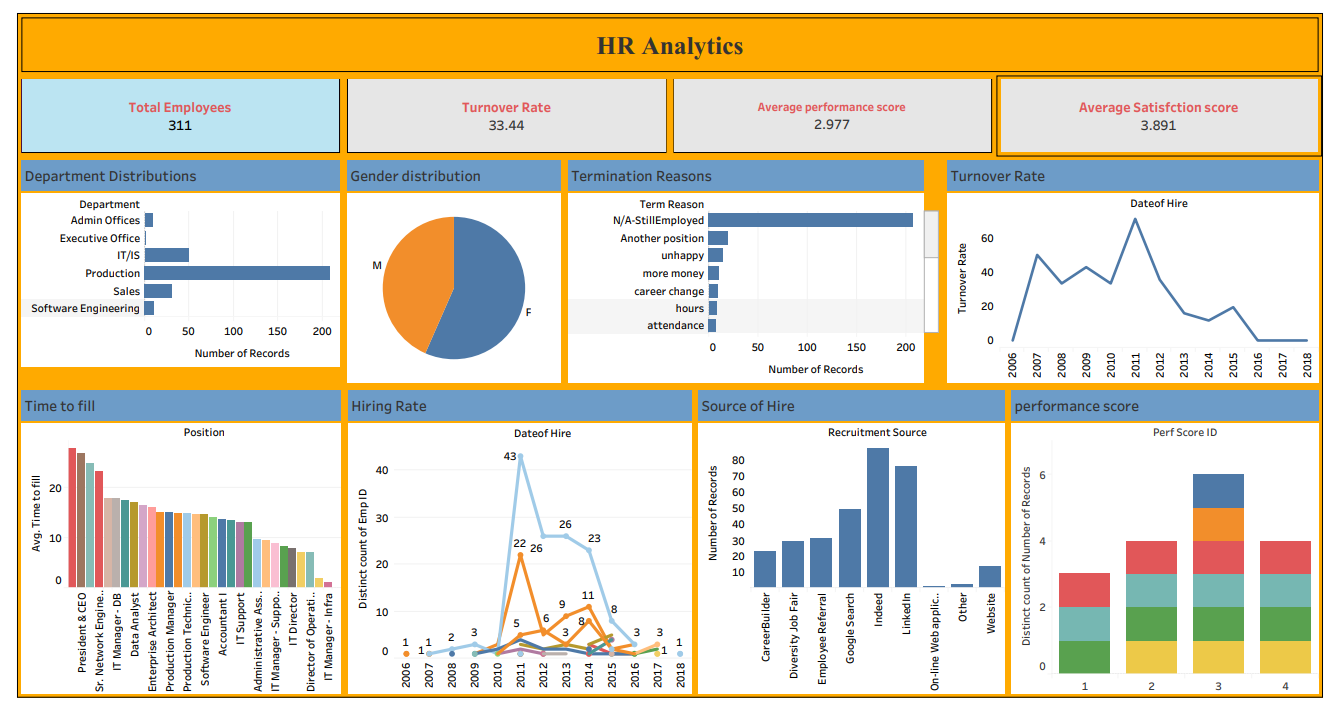

The dashboard page shown, as its layout file describes it:
{"tool":"tableau","page":{"name":"Dashboard 1","canvas":[1000,1000],"units":"permille","ordinal":0},"visuals":[{"type":"text","box":[6,11.1,988,88.7]},{"type":"worksheet","title":"Total employees","mark":"Automatic","box":[6,99.7,247,115.8]},{"type":"worksheet","title":"Turnover Rate1","mark":"Automatic","box":[253,99.7,247,115.8]},{"type":"worksheet","title":"Avg performace score","mark":"Automatic","box":[500,99.7,247,115.8]},{"type":"worksheet","title":"Avg Satisfaction score","mark":"Automatic","box":[747.7,101,245.7,113.3]},{"type":"worksheet","title":"Department Distributions","mark":"Automatic","rows":["Department"],"cols":["Calculation_1015843196177649665"],"box":[6,215.5,247,328.8]},{"type":"worksheet","title":"Gender distribution","mark":"Pie","box":[253,215.5,167,328.8]},{"type":"worksheet","title":"Termination Reasons","mark":"Bar","rows":["TermReason"],"cols":["Calculation_1015843196177649665"],"box":[420,215.5,287,328.8]},{"type":"worksheet","title":"Turnover Rate","mark":"Automatic","rows":["Calculation_1015843196181929987"],"cols":["DateofHire"],"box":[707,215.5,287,328.8]},{"type":"worksheet","title":"Time to fill","mark":"Automatic","rows":["Calculation_1011621072832401411"],"cols":["Position"],"box":[6,544.3,247.3,444.6]},{"type":"worksheet","title":"Hiring Rate","mark":"Line","rows":["EmpID"],"cols":["DateofHire"],"box":[253.3,544.3,265.3,444.6]},{"type":"worksheet","title":"Source of Hire","mark":"Automatic","rows":["Calculation_1015843196177649665"],"cols":["RecruitmentSource"],"box":[518.6,544.3,237.7,444.6]},{"type":"worksheet","title":"performance score","mark":"Bar","rows":["Calculation_1015843196177649665"],"cols":["PerfScoreID"],"box":[756.3,544.3,237.7,444.6]}]}

Visuals, with their boxes on the dashboard's canvas, which has no fixed pixel size, in thousandths of its width and height (x1, y1, x2, y2). These are canvas units, not pixel positions in the 1333x710 screenshot, which may show the page scaled, cropped or inside an application window:
text: 6,11,994,100
"Total employees" worksheet: 6,100,253,216
"Turnover Rate1" worksheet: 253,100,500,216
"Avg performace score" worksheet: 500,100,747,216
"Avg Satisfaction score" worksheet: 748,101,993,214
"Department Distributions" worksheet: 6,216,253,544
"Gender distribution" worksheet (Pie marks): 253,216,420,544
"Termination Reasons" worksheet (Bar marks): 420,216,707,544
"Turnover Rate" worksheet: 707,216,994,544
"Time to fill" worksheet: 6,544,253,989
"Hiring Rate" worksheet (Line marks): 253,544,519,989
"Source of Hire" worksheet: 519,544,756,989
"performance score" worksheet (Bar marks): 756,544,994,989
